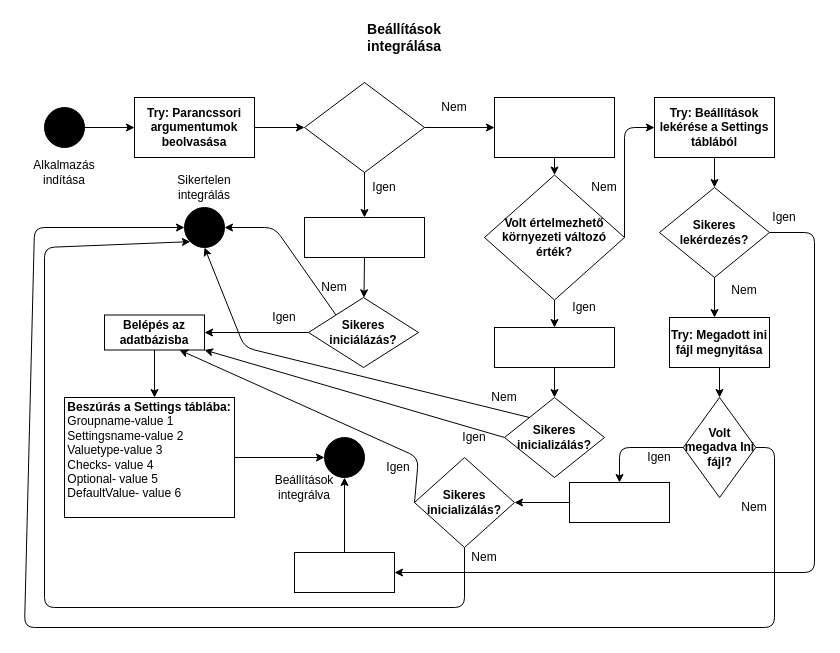
Image size: 840x653. Some labels were removed from this diagram. Each missing label, with the centre of its shape:
Beállítások arg. inicializálása: the point at 364,237
Beállítások db. inicializálása: the point at 344,572
Beállítások env. iniciálázása: the point at 554,347
Beállítások ini. inicializálása: the point at 619,502
Try: Környezeti változóértékek beolvasása: the point at 554,127
Voltak megadva argumentumok?: the point at 364,127
